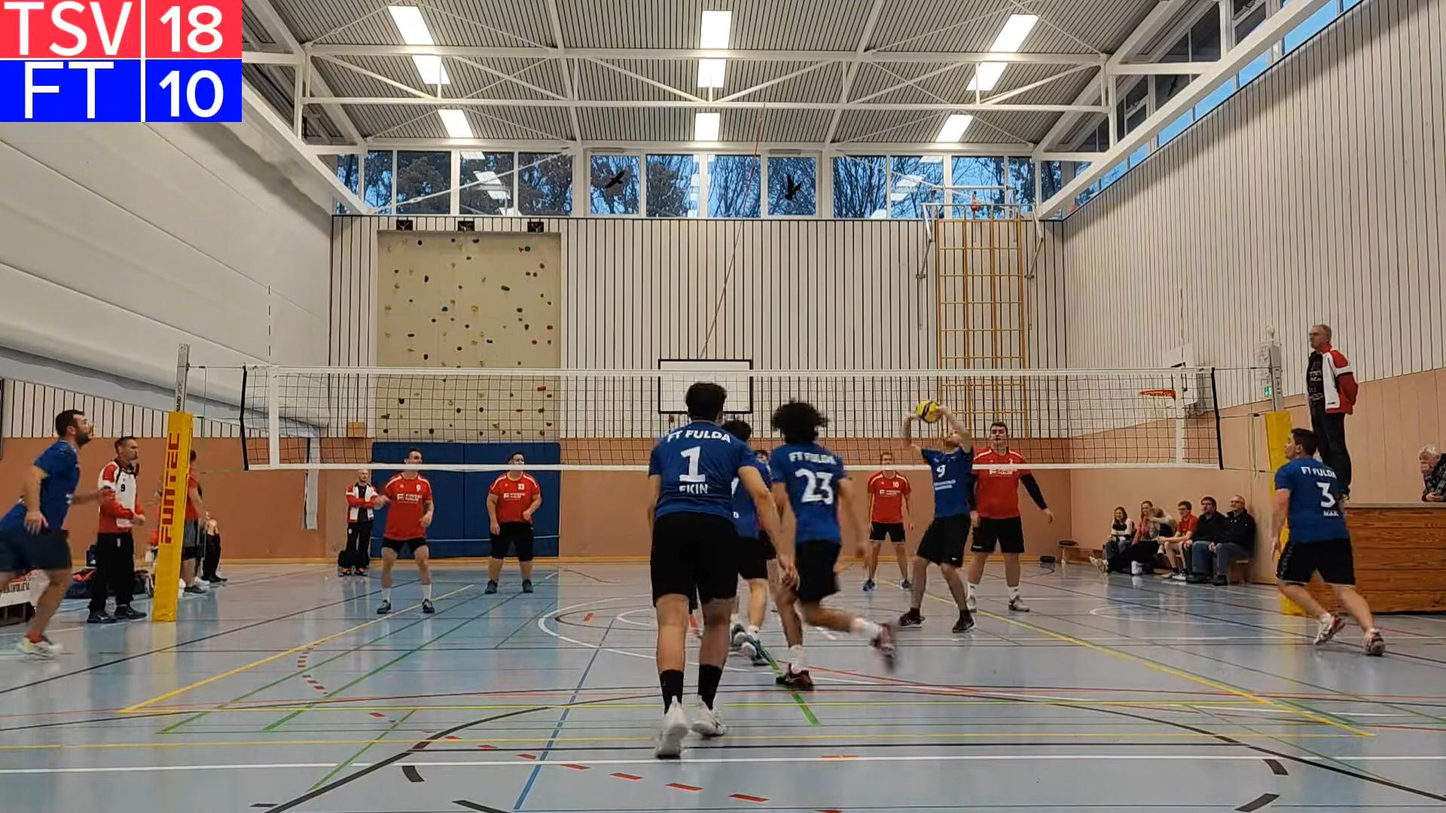Player: (648, 382, 778, 757), (770, 401, 895, 689), (1271, 428, 1384, 655), (0, 410, 102, 657), (967, 421, 1053, 612), (377, 448, 434, 614), (730, 478, 775, 665), (484, 452, 541, 593), (862, 452, 912, 591)
Set: (899, 398, 978, 635)
ball: (917, 397, 948, 424)
